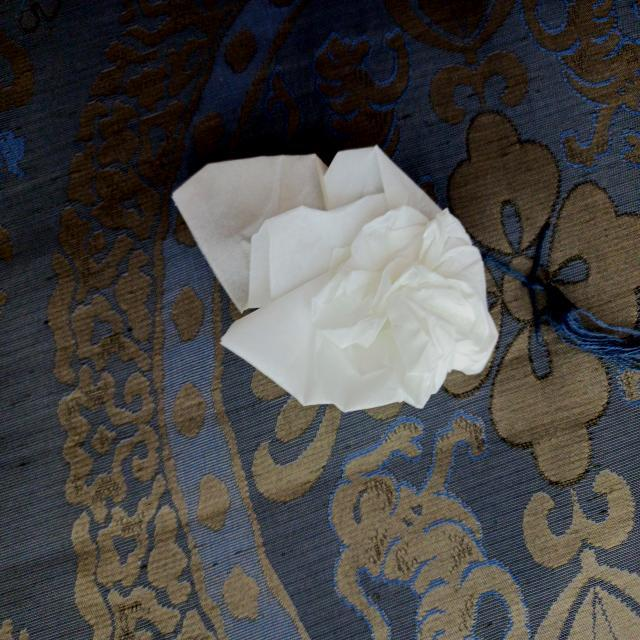Paper: (166, 148, 519, 431)
